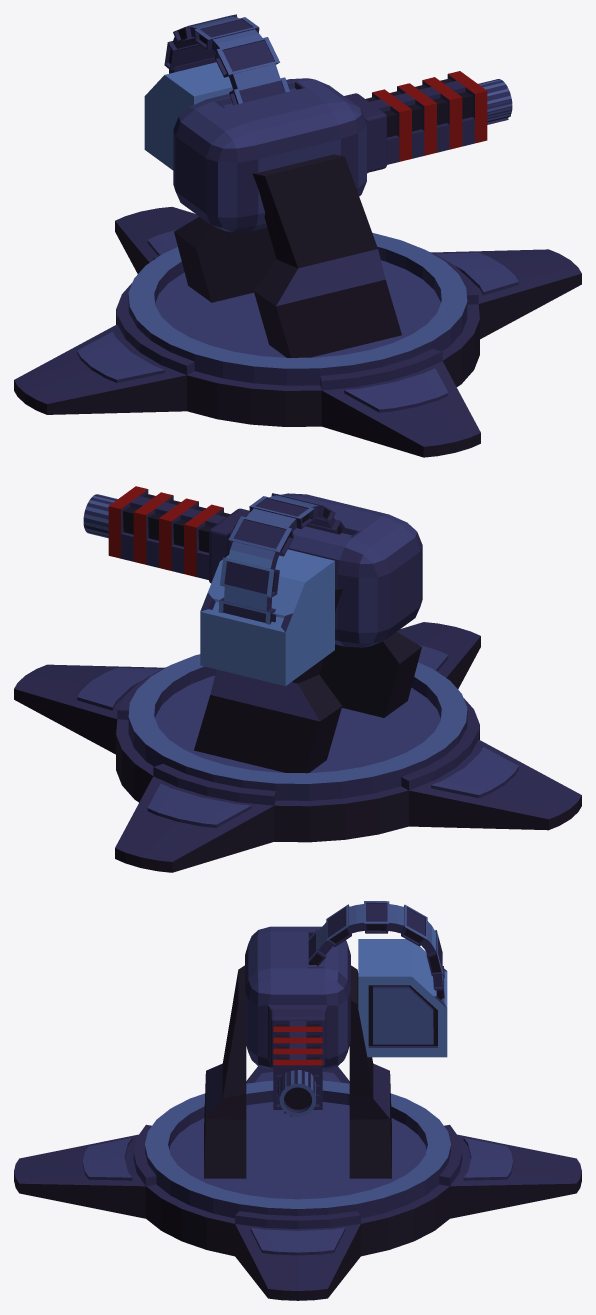
The model's file is Turret.fbx.
The picture shows the model from 3 angles, top to bottom: view 1: azimuth 30°, elevation 25°; view 2: azimuth 150°, elevation 25°; view 3: azimuth 270°, elevation 25°; orthographic projection. The views are drawn at different scales.
Visible parts, largest first — view 1: Turret; view 2: Turret; view 3: Turret.
Part boxes in pixels (<box>): Turret: <box>14,14,581,457</box>; Turret: <box>14,486,581,872</box>; Turret: <box>14,901,581,1300</box>.
Size of the model in its own units: 1207 by 628 by 1207.
Materials: 1 (1 with a texture image).
